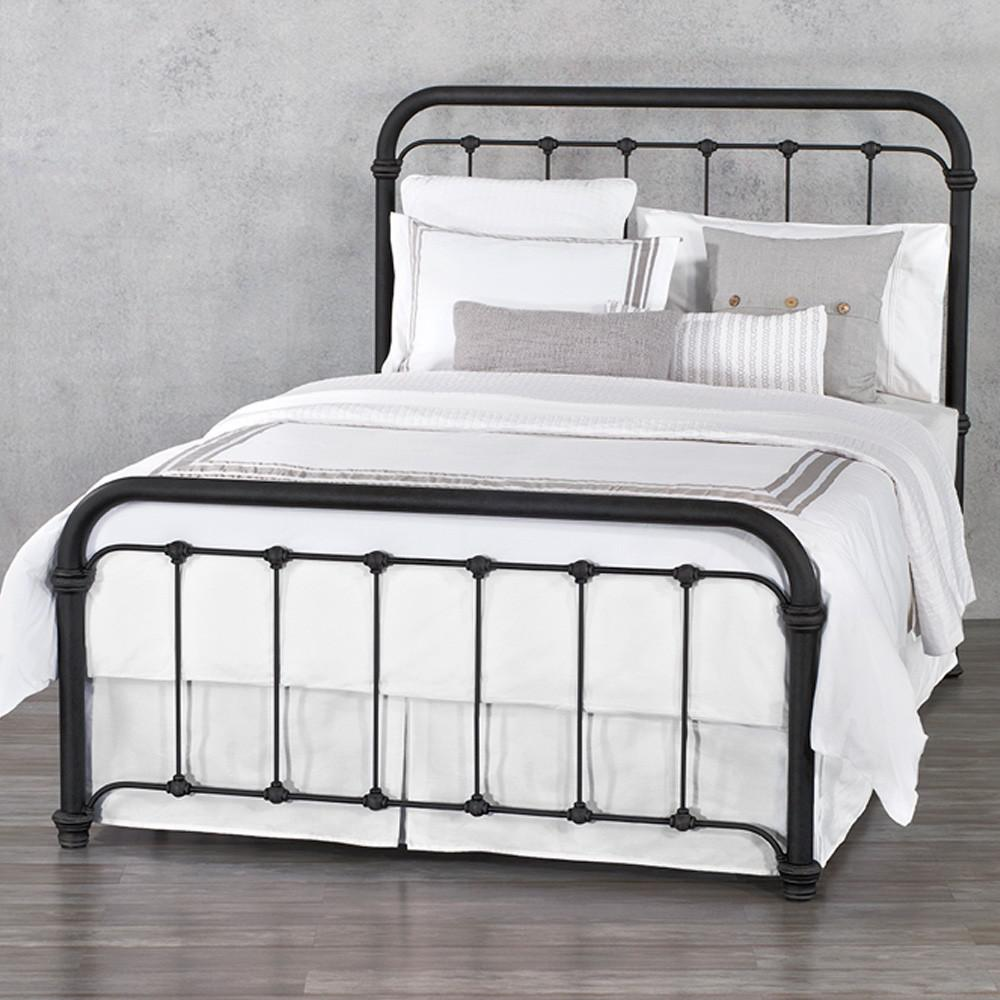bed: (33, 73, 970, 950)
